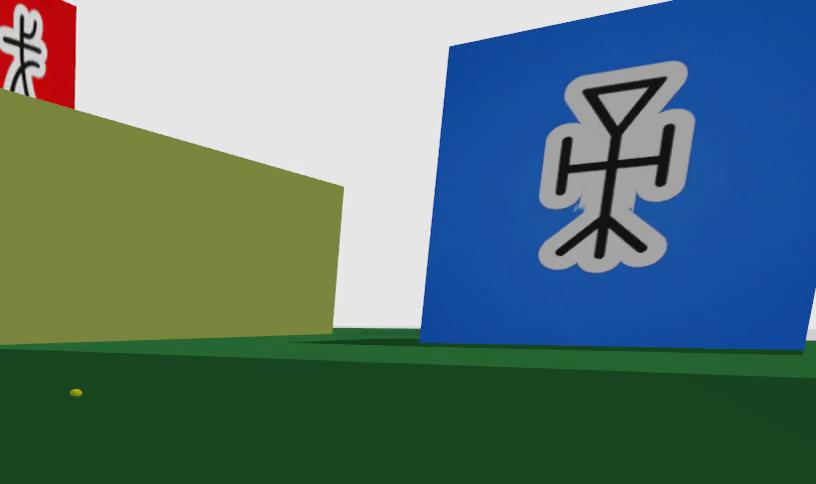KFS_FAKE: (0, 0, 77, 105), (0, 3, 48, 96)
KFS_REAL: (419, 0, 815, 348), (538, 61, 694, 272)
